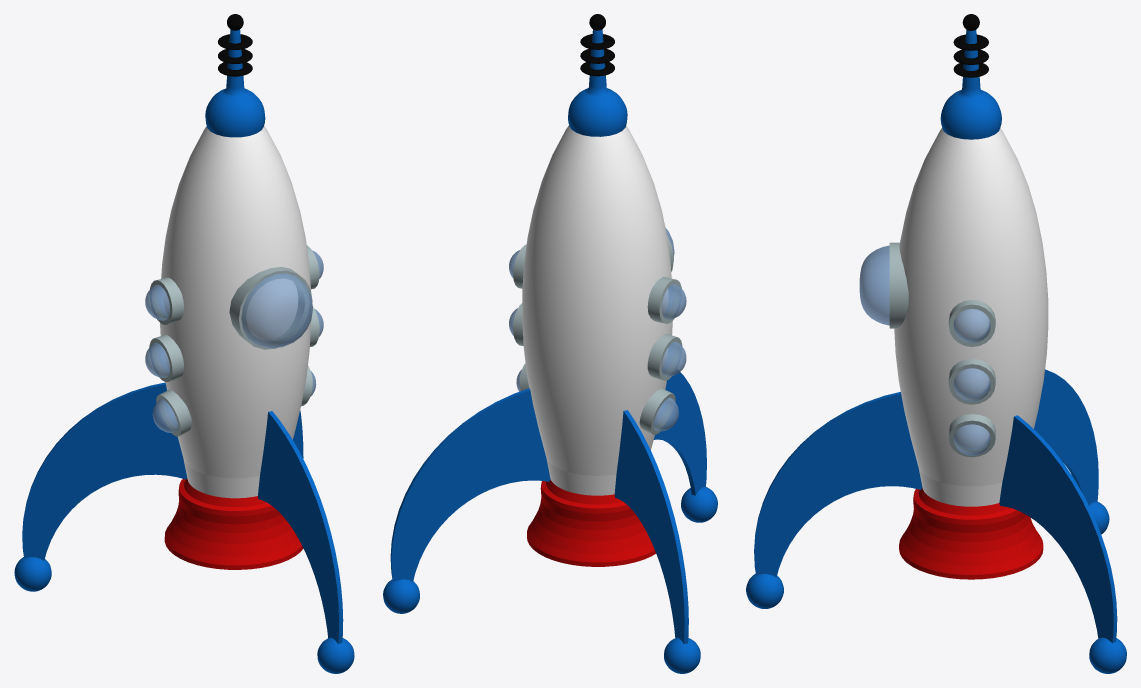
Rendered from rocket_launch_1.gltf.
3 views of the same model, side by side, from view 1: azimuth 30°, elevation 25°; view 2: azimuth 150°, elevation 25°; view 3: azimuth 270°, elevation 25° (orthographic). The views are drawn at different scales.
Visible parts, largest first — view 1: Rocket; view 2: Rocket; view 3: Rocket.
Boxes of the visible parts, x1,y1,x2,y2 form: Rocket: (14,14,354,673); Rocket: (383,14,717,673); Rocket: (746,14,1126,673).
Size of the model in its own units: 2.43 by 4.42 by 2.57.
